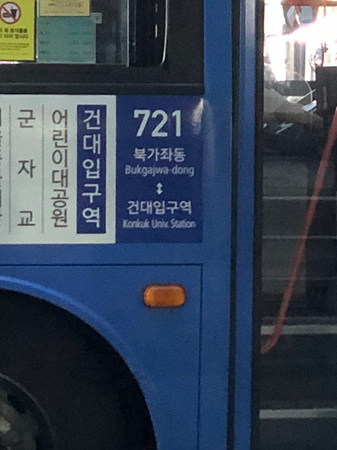bnum: (125, 103, 191, 142)
